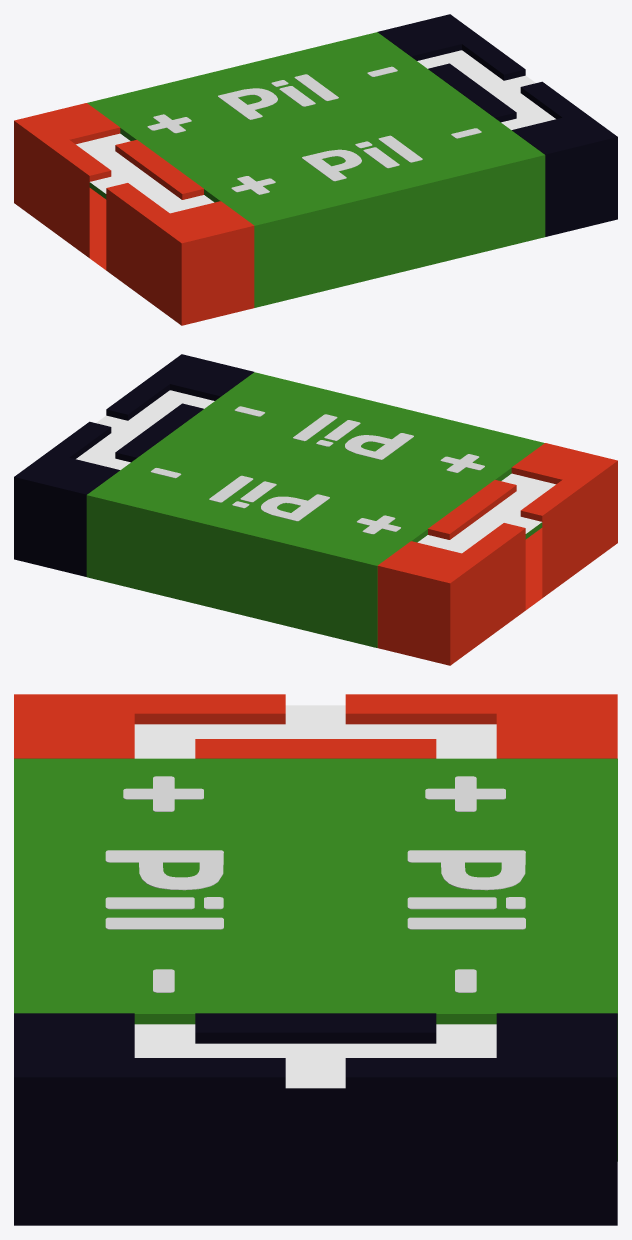
Rendered from model-1767364370567-2liparalel.glb.
3 views of the same model, one above another, from view 1: azimuth 30°, elevation 25°; view 2: azimuth 150°, elevation 25°; view 3: azimuth 270°, elevation 25° (orthographic). The views are drawn at different scales.
Visible parts, largest first — view 1: Pil.004, Seri.021, Pil.006, Seri.022, PilText.004, PilText.006; view 2: Pil.006, Seri.021, Pil.004, Seri.022, PilText.006, PilText.004; view 3: Seri.022, Pil.006, Pil.004, Seri.021, PilText.004, PilText.006.
Part boxes in pixels (bbox=[...]): Pil.004: bbox=[171, 93, 545, 307]; Seri.021: bbox=[14, 103, 254, 325]; Pil.006: bbox=[87, 32, 460, 199]; Seri.022: bbox=[378, 14, 617, 236]; PilText.004: bbox=[231, 128, 481, 194]; PilText.006: bbox=[147, 66, 397, 133]; Pil.006: bbox=[86, 433, 460, 647]; Seri.021: bbox=[377, 443, 617, 665]; Pil.004: bbox=[171, 372, 544, 539]; Seri.022: bbox=[14, 354, 253, 576]; PilText.006: bbox=[150, 468, 400, 534]; PilText.004: bbox=[234, 406, 484, 472]; Seri.022: bbox=[14, 1013, 617, 1225]; Pil.006: bbox=[316, 758, 617, 1161]; Pil.004: bbox=[14, 758, 315, 1024]; Seri.021: bbox=[14, 694, 617, 758]; PilText.004: bbox=[105, 776, 223, 992]; PilText.006: bbox=[407, 776, 525, 992].
Bounding box in the file's own units: 7.5 × 1.36 × 5.
